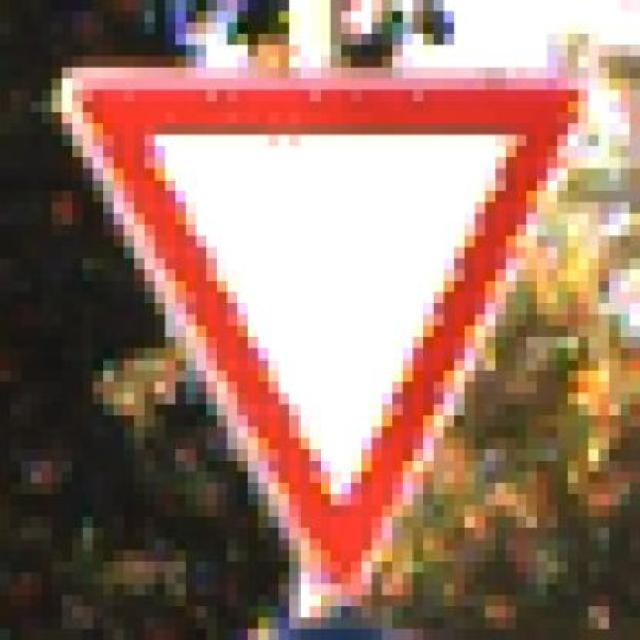Give Way: (62, 45, 609, 606)
